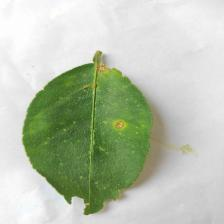canker: (91, 63, 144, 137)
